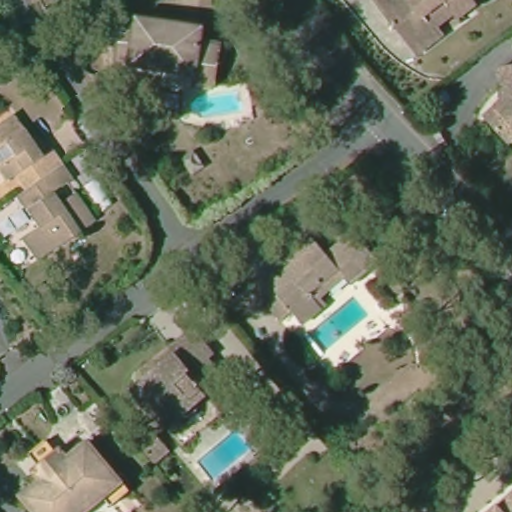pool: (302, 297, 376, 356), (193, 421, 263, 478), (177, 84, 252, 127)
